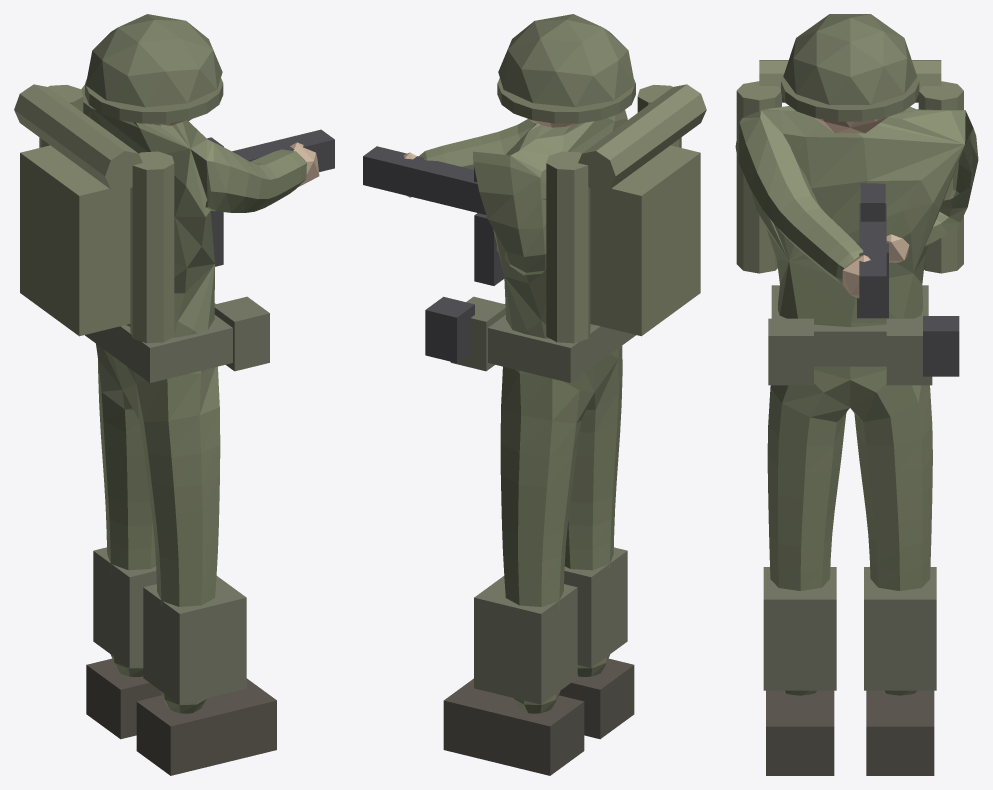
File: trooper_us_ww2.glb
3 renders of one model, left to right at view 1: azimuth 30°, elevation 25°; view 2: azimuth 150°, elevation 25°; view 3: azimuth 270°, elevation 25°, orthographic.
Visible parts, largest first — view 1: trooper_us_ww2; view 2: trooper_us_ww2; view 3: trooper_us_ww2.
Part boxes in pixels (x1,y1,x2,y2): trooper_us_ww2: (14,14,334,775); trooper_us_ww2: (363,14,706,775); trooper_us_ww2: (735,14,978,775).
Bounding box in the file's own units: 0.735 × 1.74 × 0.534.
